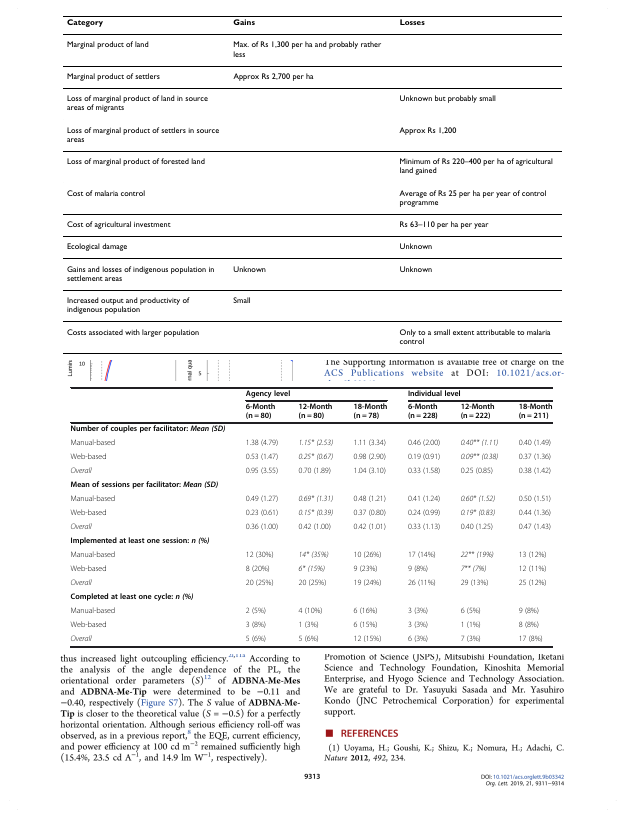borderless: (62, 14, 562, 353), (69, 386, 552, 646)
cell: (65, 126, 220, 145), (398, 157, 553, 176), (398, 328, 551, 347), (232, 41, 382, 60), (65, 265, 215, 284), (398, 189, 547, 208), (65, 94, 208, 113), (65, 296, 190, 315), (70, 425, 226, 435), (70, 481, 219, 491), (70, 537, 210, 547), (65, 157, 205, 167), (65, 328, 200, 338), (70, 593, 194, 603), (65, 220, 171, 230), (398, 94, 496, 104), (65, 72, 160, 82), (398, 220, 489, 230), (232, 72, 314, 82), (65, 189, 146, 199), (65, 41, 149, 50), (298, 403, 333, 422), (353, 403, 388, 422), (460, 403, 495, 422), (518, 403, 553, 422), (407, 403, 439, 422), (398, 126, 457, 136), (245, 403, 276, 422), (65, 243, 128, 252), (407, 390, 462, 399), (245, 390, 291, 399), (70, 439, 116, 448), (70, 495, 116, 504), (70, 551, 116, 560), (70, 607, 116, 616), (460, 439, 499, 448), (460, 453, 499, 462), (398, 265, 433, 275), (65, 19, 103, 28), (232, 265, 266, 275), (70, 453, 107, 462), (70, 509, 107, 518), (70, 565, 107, 574), (70, 621, 107, 630), (298, 439, 334, 448), (298, 453, 334, 462), (298, 495, 334, 504), (460, 495, 496, 504), (298, 509, 334, 518), (460, 509, 496, 518), (460, 551, 495, 560), (398, 243, 433, 252), (245, 439, 279, 448), (353, 439, 387, 448), (407, 439, 441, 448), (518, 439, 552, 448), (245, 453, 279, 462), (353, 453, 387, 462), (407, 453, 441, 462), (518, 453, 552, 462), (245, 467, 279, 476), (298, 467, 332, 476), (353, 467, 387, 476), (407, 467, 441, 476), (460, 467, 494, 476), (518, 467, 552, 476), (245, 495, 279, 504), (353, 495, 387, 504), (407, 495, 441, 504), (518, 495, 552, 504), (245, 509, 279, 518), (353, 509, 387, 518), (407, 509, 441, 518), (518, 509, 552, 518), (245, 523, 279, 532), (298, 523, 332, 532), (353, 523, 387, 532), (407, 523, 441, 532), (460, 523, 494, 532), (518, 523, 552, 532), (298, 551, 329, 560), (407, 551, 437, 560), (407, 579, 437, 588), (245, 551, 274, 560), (353, 551, 382, 560), (518, 551, 547, 560), (518, 565, 547, 574), (245, 579, 274, 588), (298, 579, 327, 588), (353, 579, 382, 588), (460, 579, 489, 588), (518, 579, 547, 588), (353, 635, 382, 644), (298, 565, 326, 574), (460, 565, 487, 574), (398, 19, 425, 28), (245, 565, 271, 574), (518, 635, 544, 644), (353, 565, 378, 574), (298, 607, 323, 616), (353, 607, 378, 616), (353, 621, 378, 630), (70, 467, 93, 476), (70, 523, 93, 532), (70, 579, 93, 588), (70, 635, 93, 644), (232, 19, 255, 28), (407, 565, 429, 574), (245, 607, 267, 616), (407, 607, 429, 616), (460, 607, 482, 616), (518, 607, 540, 616), (245, 621, 267, 630), (298, 621, 320, 630), (407, 621, 429, 630), (460, 621, 482, 630), (518, 621, 540, 630), (245, 635, 267, 644), (298, 635, 320, 644), (407, 635, 429, 644), (460, 635, 482, 644), (232, 296, 251, 306)
